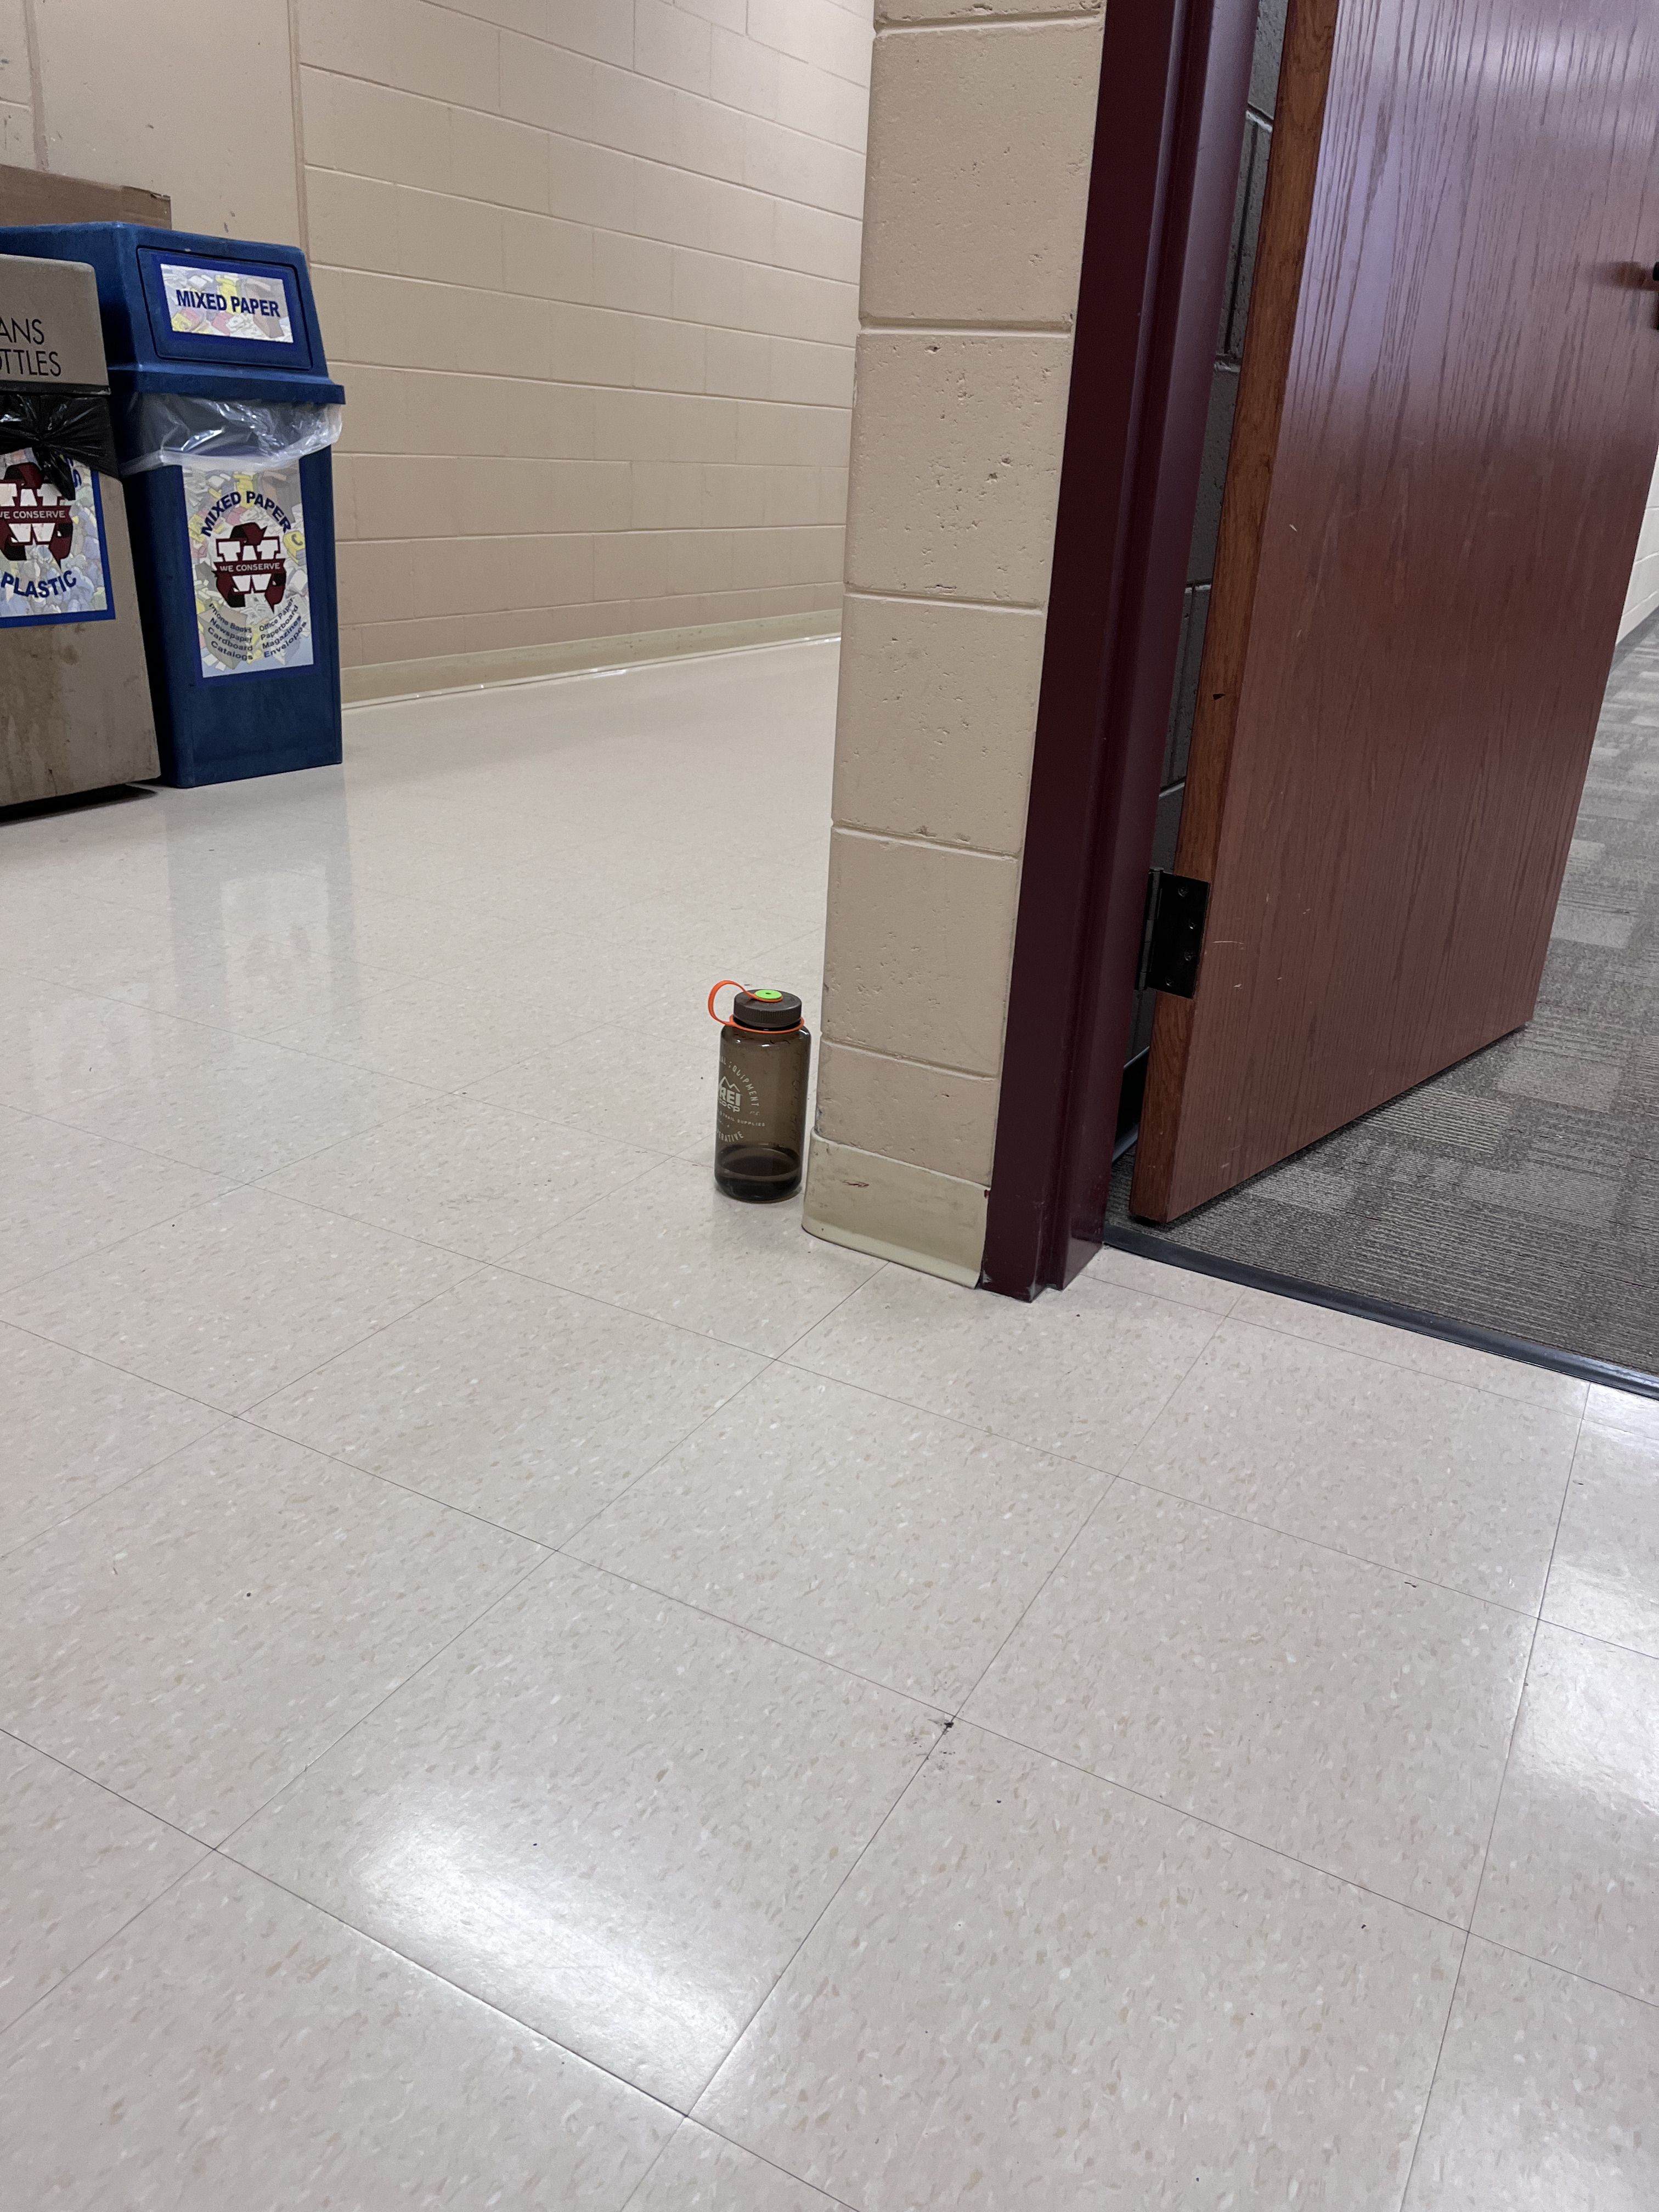bottle: (702, 967, 814, 1209)
